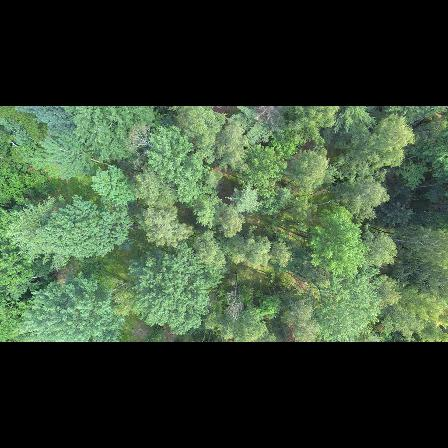Dead: (226, 274, 243, 321)
